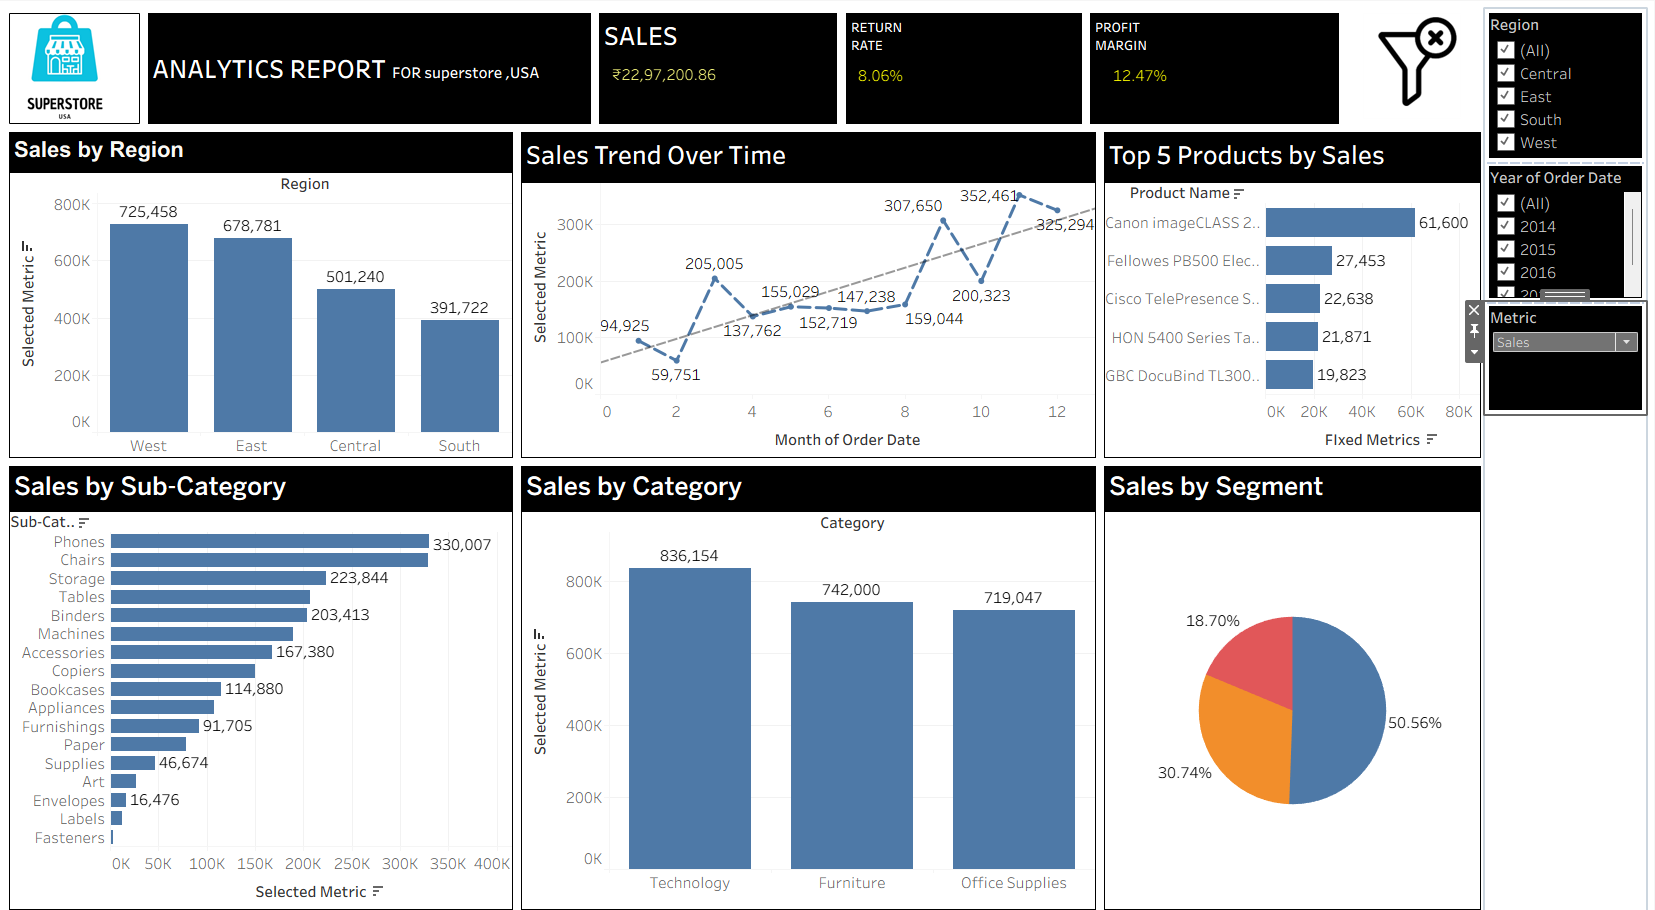

Layout of this report page (visuals, bound fields, positions):
{"tool":"tableau","page":{"name":"Dashboard 1","canvas":[1000,1000],"units":"permille","ordinal":0},"visuals":[{"type":"image","param":"Image/Screenshot (64).png","box":[4.8,8.7,83.8,129.2]},{"type":"text","box":[88.6,8.7,272.5,129.2]},{"type":"worksheet","title":"SALES","mark":"Automatic","box":[361.1,8.7,148.8,129.2]},{"type":"worksheet","title":"RETURN RATE","mark":"Automatic","box":[509.9,8.7,147.5,129.2]},{"type":"worksheet","title":"PROFIT MARGIN","mark":"Automatic","box":[657.4,8.7,155.3,129.2]},{"type":"filter","title":"SALES","param":"[federated.01wx6ab1shc1od16thzt50eu8qro].[none:Region:nk]","box":[898,8.7,97.2,166.1]},{"type":"dashboard-object","box":[814.1,13,80.3,115.1]},{"type":"worksheet","title":"region","mark":"Automatic","rows":["Calculation_1638321084747780"],"cols":["Region"],"box":[4.8,137.9,309.2,362.1]},{"type":"worksheet","title":"trend","mark":"Line","rows":["Calculation_1638321084747780"],"cols":["Order Date"],"box":[314,137.9,351.6,362.1]},{"type":"worksheet","title":"top 5 products","mark":"Automatic","rows":["Product Name"],"cols":["Calculation_1041019005947904"],"box":[665.6,137.9,232.4,362.1]},{"type":"filter","title":"SALES","param":"[federated.01wx6ab1shc1od16thzt50eu8qro].[yr:Order Date:ok]","box":[898,174.8,97.2,152]},{"type":"parameter","param":"[Parameters].[Parameter 1]","box":[898,326.8,97.2,121.6]},{"type":"worksheet","title":"sub cat ","mark":"Automatic","rows":["Sub-Category"],"cols":["Calculation_1638321084747780"],"box":[4.8,500,309.2,491.3]},{"type":"worksheet","title":"category","mark":"Automatic","rows":["Calculation_1638321084747780"],"cols":["Category"],"box":[314,500,351.6,491.3]},{"type":"worksheet","title":"segment","mark":"Pie","box":[665.6,500,232.4,491.3]}]}

Visuals, with their boxes on the dashboard's canvas, which has no fixed pixel size, in thousandths of its width and height (x1, y1, x2, y2). These are canvas units, not pixel positions in the 1655x910 screenshot, which may show the page scaled, cropped or inside an application window:
image: left=5, top=9, right=89, bottom=138
text: left=89, top=9, right=361, bottom=138
"SALES" worksheet: left=361, top=9, right=510, bottom=138
"RETURN RATE" worksheet: left=510, top=9, right=657, bottom=138
"PROFIT MARGIN" worksheet: left=657, top=9, right=813, bottom=138
"SALES" filter: left=898, top=9, right=995, bottom=175
dashboard-object: left=814, top=13, right=894, bottom=128
"region" worksheet: left=5, top=138, right=314, bottom=500
"trend" worksheet (Line marks): left=314, top=138, right=666, bottom=500
"top 5 products" worksheet: left=666, top=138, right=898, bottom=500
"SALES" filter: left=898, top=175, right=995, bottom=327
parameter: left=898, top=327, right=995, bottom=448
"sub cat " worksheet: left=5, top=500, right=314, bottom=991
"category" worksheet: left=314, top=500, right=666, bottom=991
"segment" worksheet (Pie marks): left=666, top=500, right=898, bottom=991
